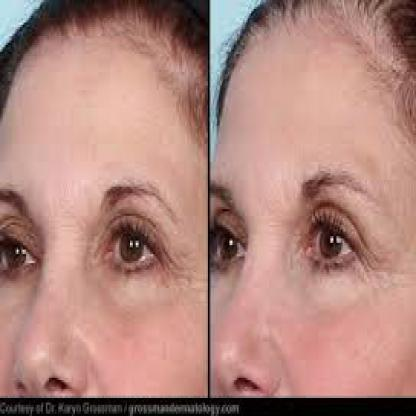darkspot: (77, 165, 158, 270), (12, 205, 93, 294), (148, 150, 203, 223), (331, 228, 361, 268), (225, 76, 260, 98), (77, 76, 95, 94)
